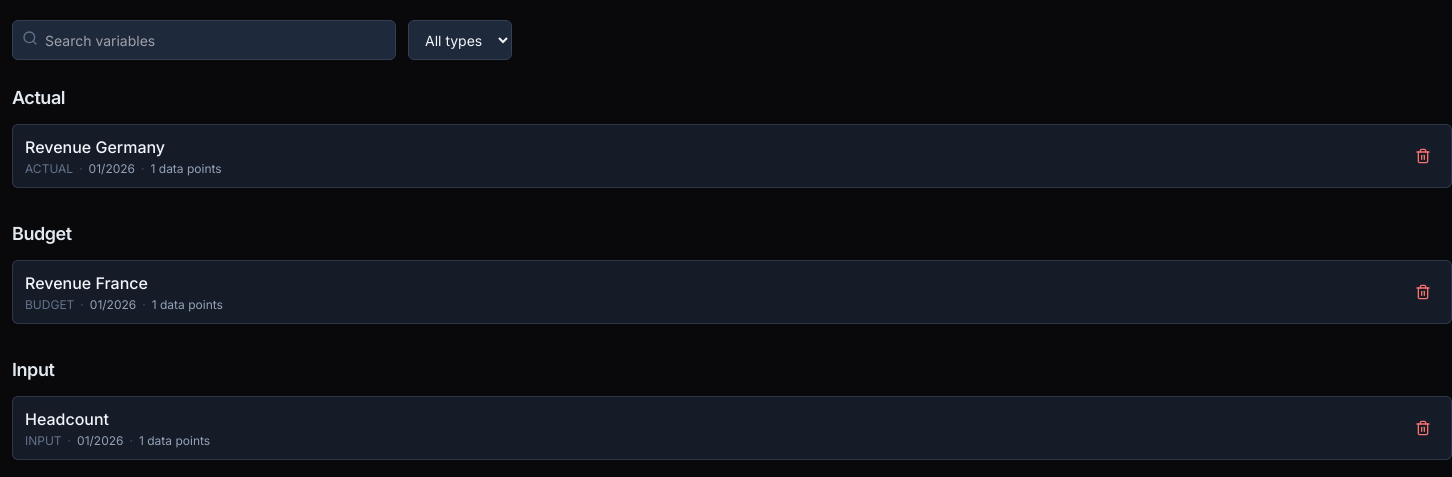
Test case: VariableList › filters by name as you type and shows how many match
Type "revenue ger" into the search field labelled "Search variables". click: (204,40)
box: [12, 20, 396, 60]
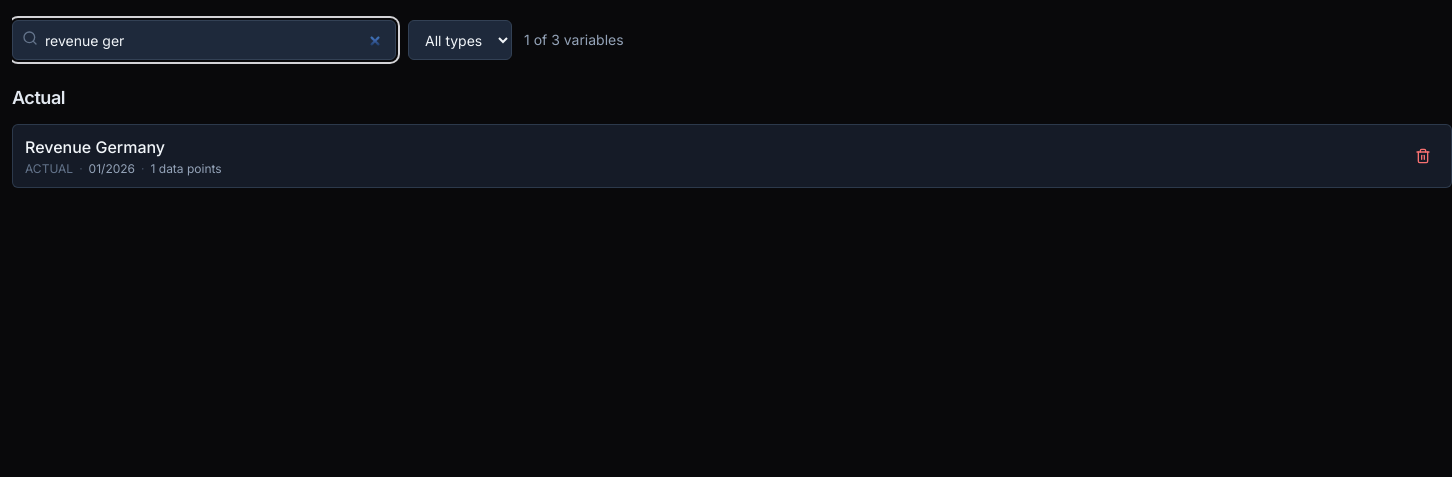
Now the text with test id "variable-filter-count" reads "1 of 3 variables", box [524, 30, 624, 50]
